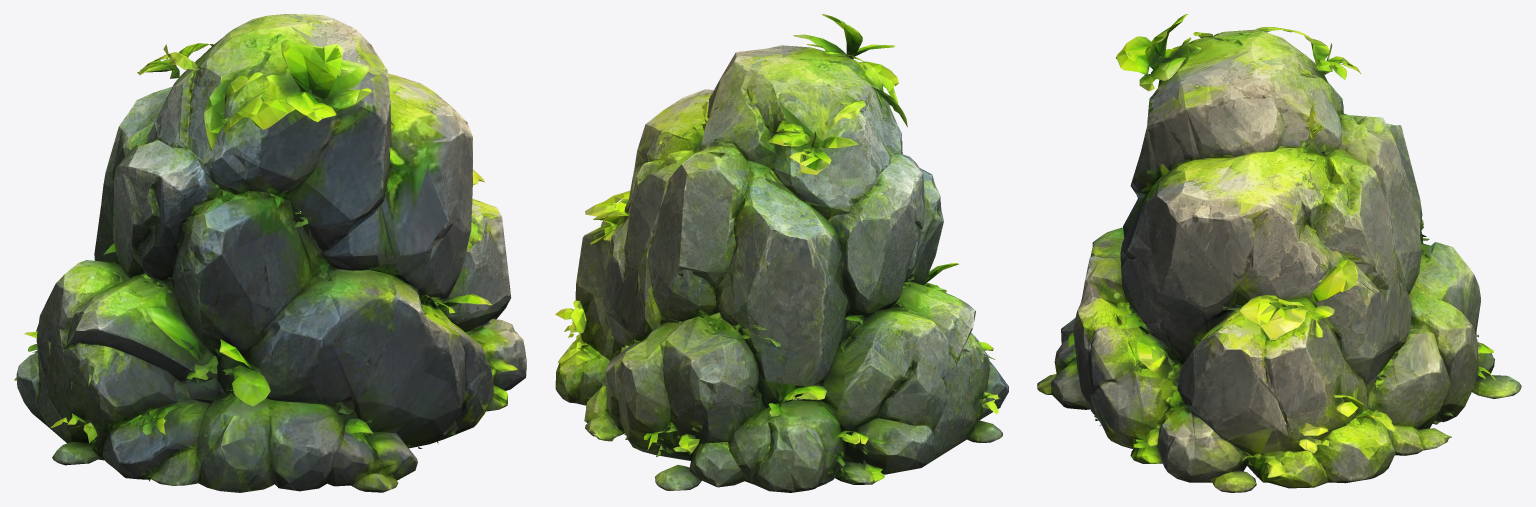
The model's file is pilha_pedras.glb.
The picture shows the model from 3 angles, left to right: view 1: azimuth 30°, elevation 25°; view 2: azimuth 150°, elevation 25°; view 3: azimuth 270°, elevation 25°; orthographic projection. The views are drawn at different scales.
Parts seen in each view (by area): view 1: plush; view 2: plush; view 3: plush.
Boxes of the visible parts, box(x1,y1,x2,y2) form: plush: box(14, 14, 526, 492); plush: box(555, 14, 1008, 492); plush: box(1037, 14, 1521, 492).
Bounding box in the file's own units: 0.9768 × 0.8195 × 0.9685.
Materials: 1 (1 with a texture image).
